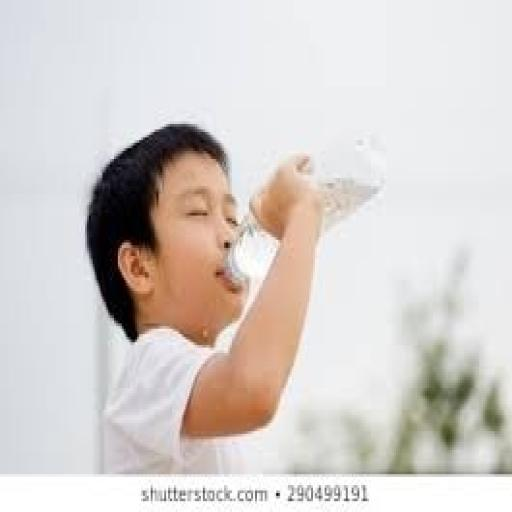drinking: (222, 126, 386, 286)
